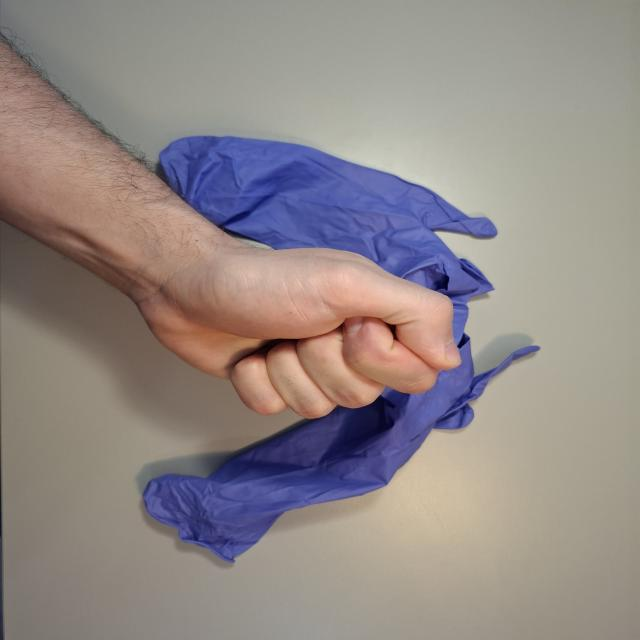glove_off: (128, 230, 465, 420)
